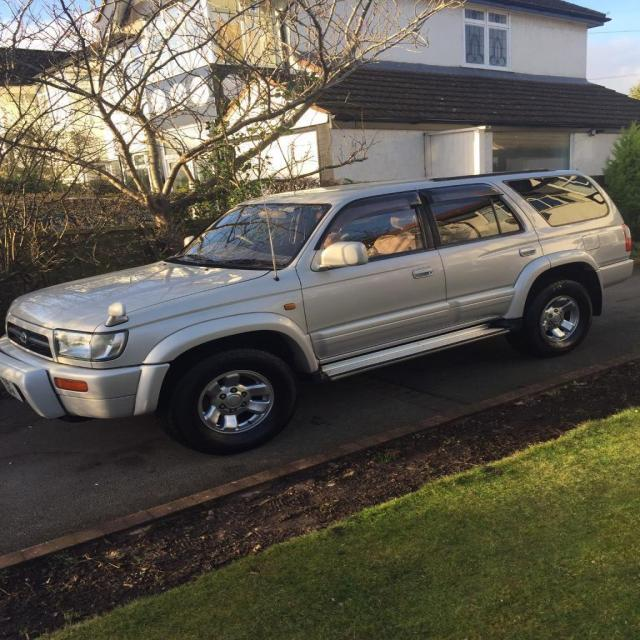light_vehicle: (7, 176, 639, 460)
